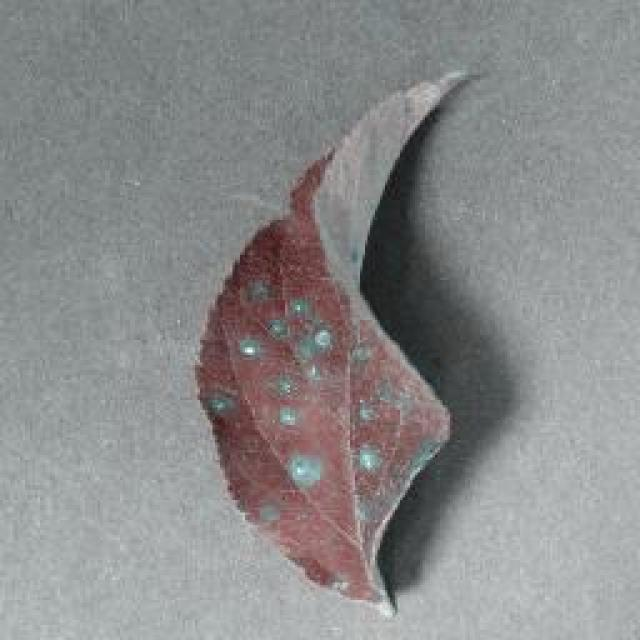apple rust disease: (190, 68, 478, 618)
